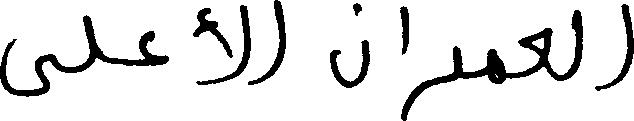X: (198, 0, 249, 89), (410, 41, 462, 112), (0, 34, 55, 101), (331, 0, 369, 92), (138, 26, 168, 70), (621, 0, 633, 85), (400, 1, 408, 120), (273, 0, 285, 79), (83, 10, 97, 75), (487, 44, 506, 88), (571, 5, 582, 81), (518, 30, 531, 82)
